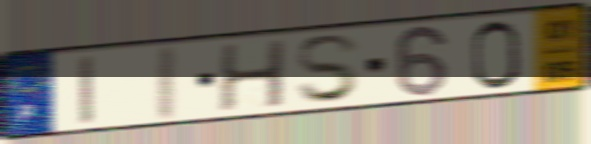0: (469, 17, 524, 91)
6: (393, 23, 450, 100)
H: (215, 37, 289, 114)
I: (152, 42, 180, 124), (77, 52, 97, 127)
S: (293, 31, 364, 106)
